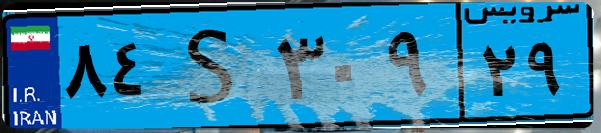0: (330, 28, 385, 110)
2: (475, 38, 525, 113)
3: (270, 28, 330, 110)
4: (110, 28, 158, 98)
8: (57, 26, 110, 100)
9: (385, 28, 445, 110), (525, 38, 570, 115)
S: (158, 12, 270, 120)
